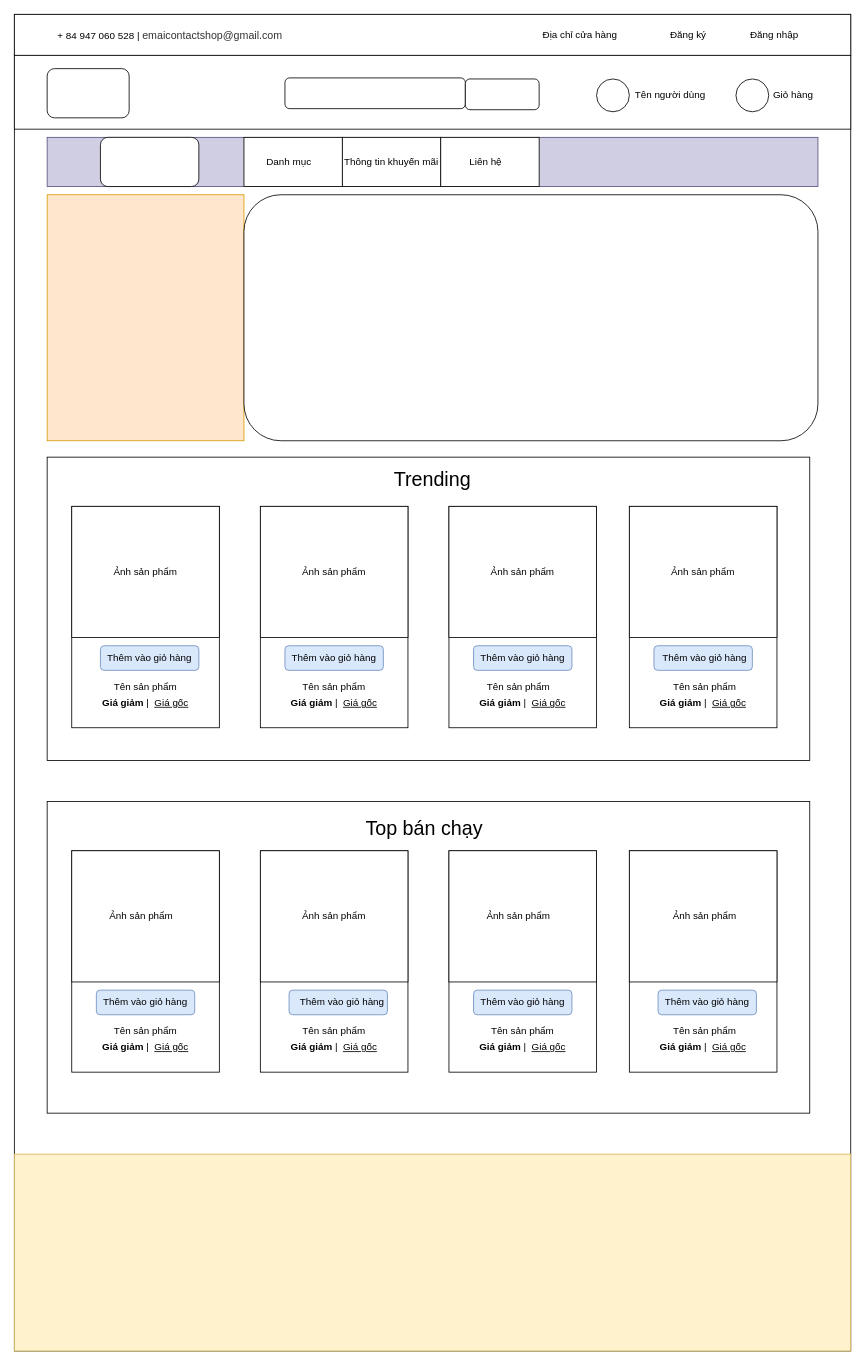
This 865x1365 diagram has some shape labels left out. The shapes that lost their labels are listed below. From the top down, each one's box as (x1, y1, x2, y2) in pixels, then its label:
(46, 68, 129, 118): Logo shop
(465, 78, 539, 110): Tìm kiếm
(100, 137, 199, 187): Trang chủ
(46, 194, 244, 441): Danh mục sản phẩm
(243, 194, 818, 441): Banner trang chủ
(14, 1153, 851, 1351): Footer, chứa các thông tin của website
